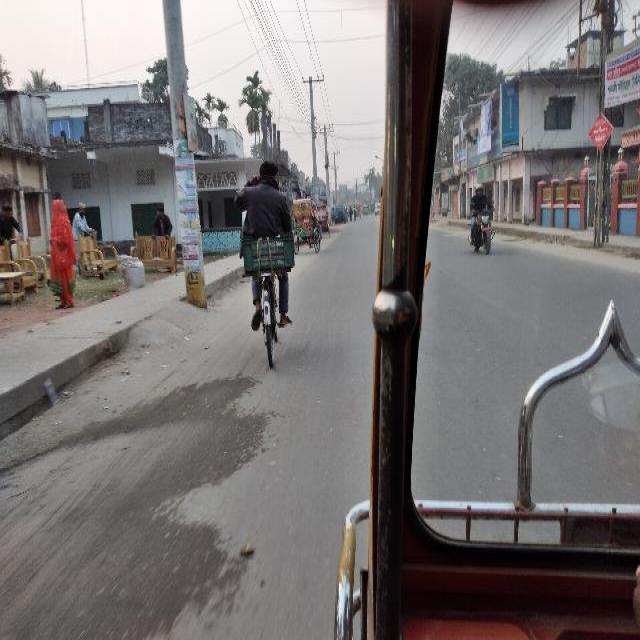bike: (235, 160, 300, 373), (467, 180, 500, 257)
vehicle: (292, 198, 323, 255), (316, 204, 331, 238), (334, 205, 349, 224), (355, 204, 362, 222), (363, 204, 370, 219), (375, 202, 382, 216)
